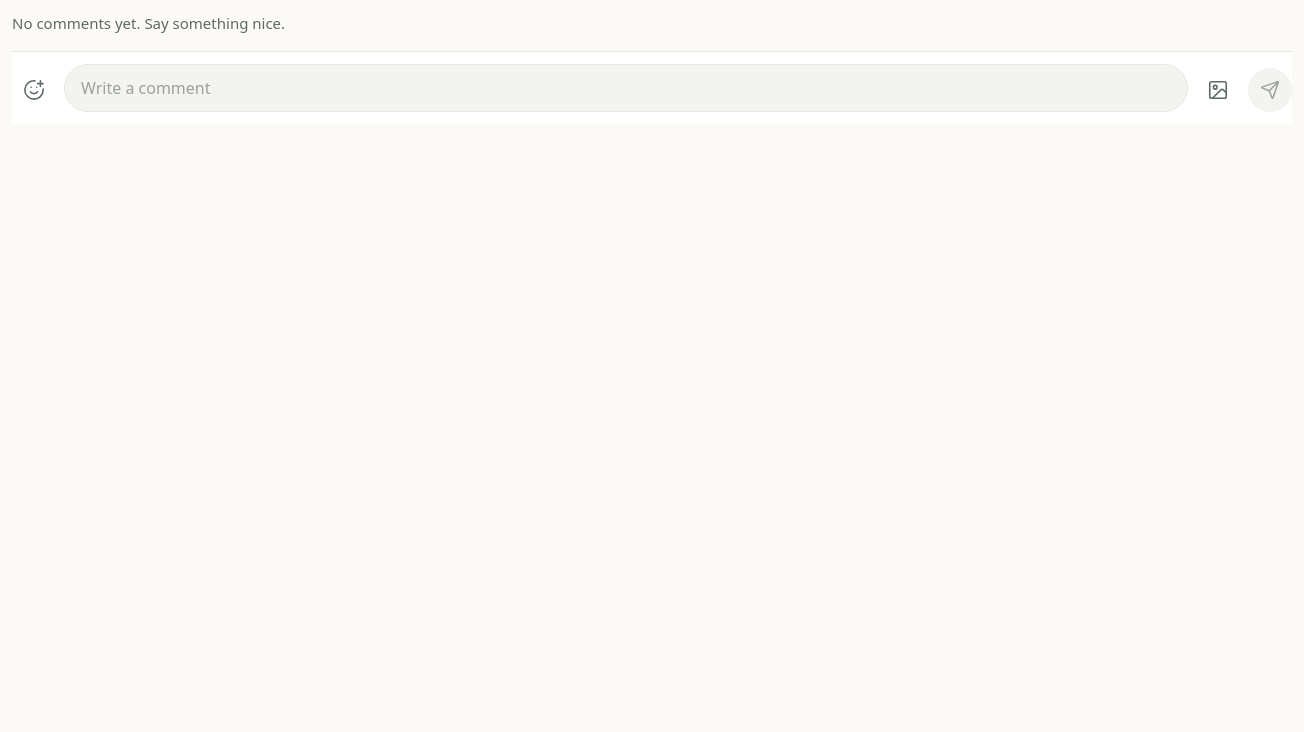
Scenario: Comments › keeps the text when sending fails
The width and height of the screenshot is (1304, 732).
Expected: the text "No comments yet. Say something nice." is shown, [12,13,285,33]
Expected: the button named "Send" is disabled, [1248,68,1292,112]
Type "Hello" into the text box labelled "comment" at {"x": 626, "y": 88}, box [64,64,1188,112]
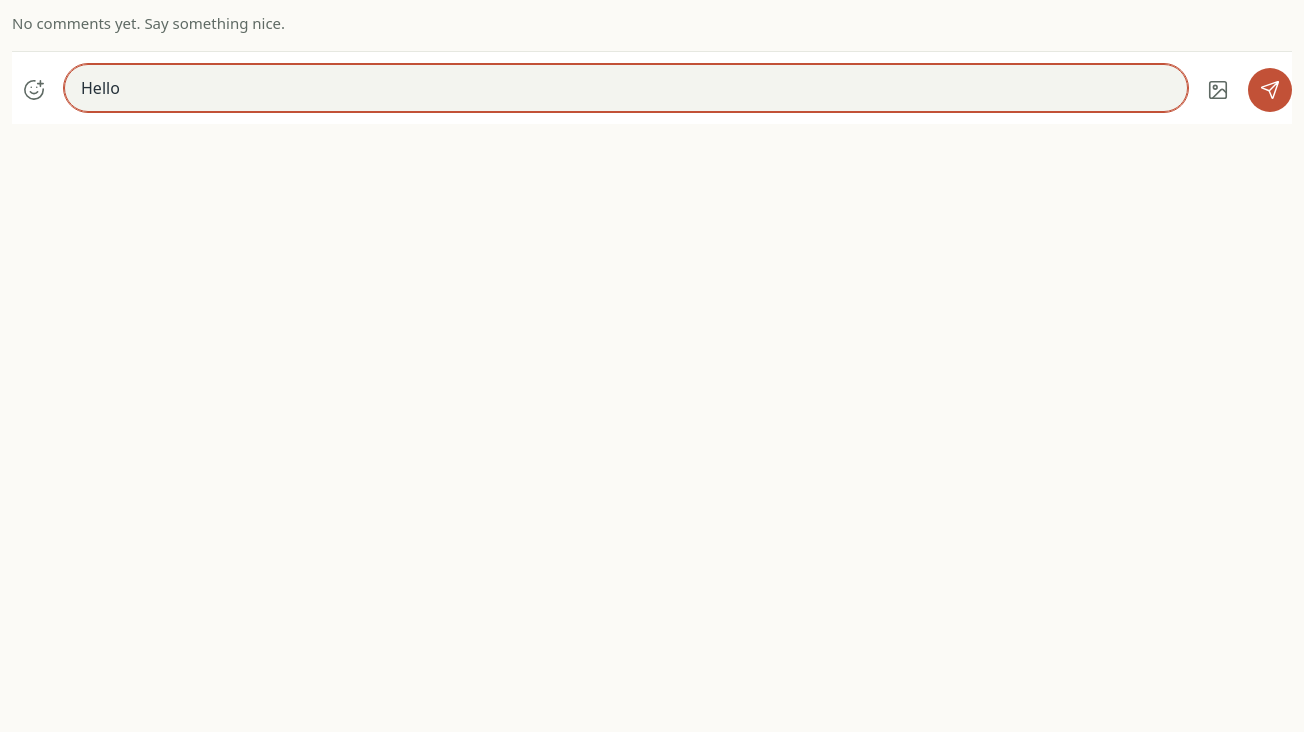
Click the button named "Send" at {"x": 1270, "y": 90}, box [1248,68,1292,112]
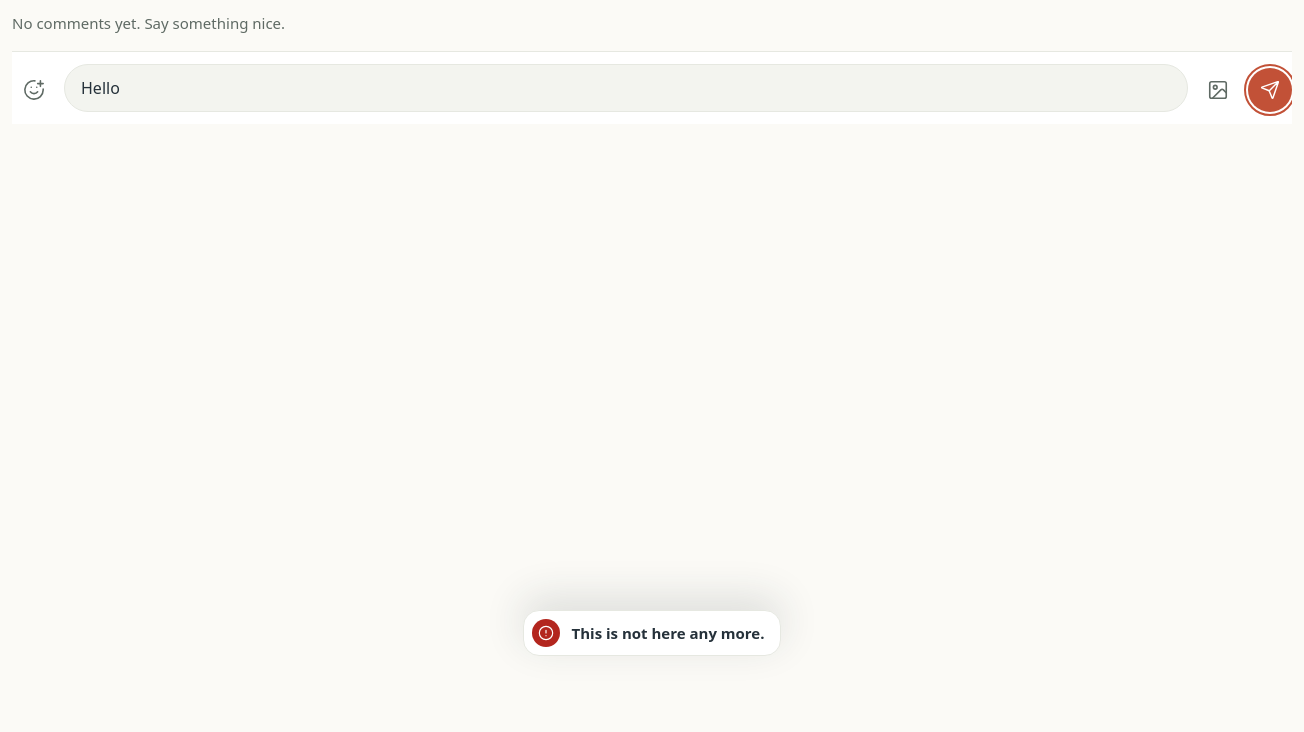
Expected: the text "This is not here any more." is shown, [522,610,782,656]
